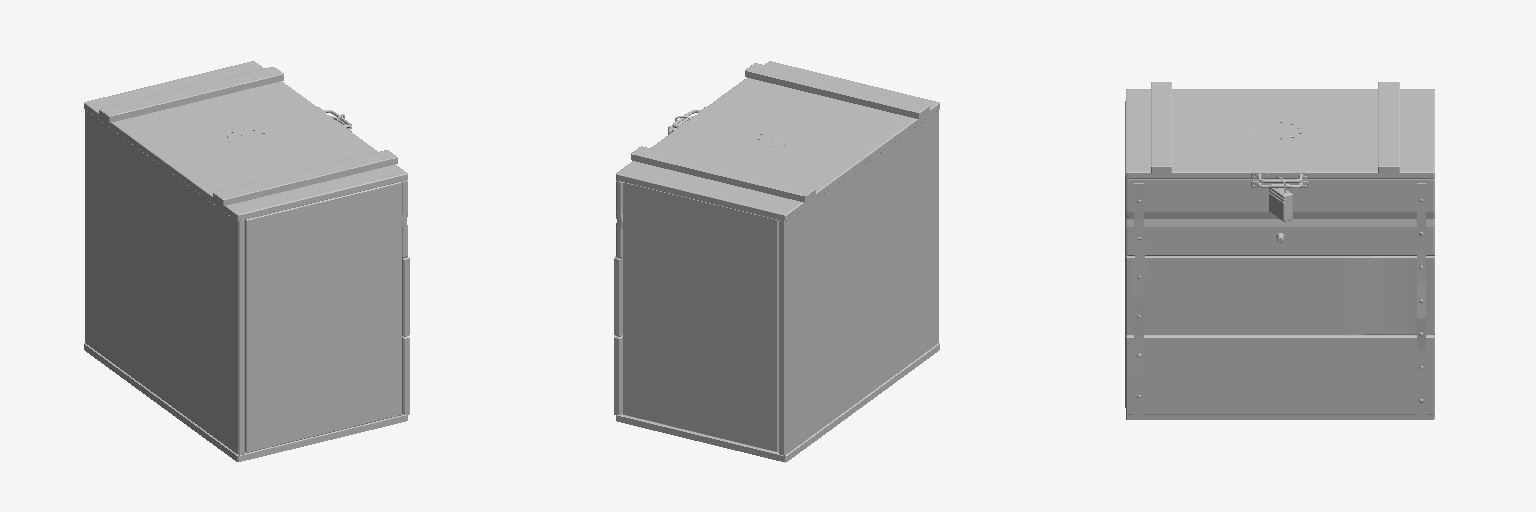
The model's file is box_resize.obj.
3 renders of one model, left to right at view 1: azimuth 30°, elevation 25°; view 2: azimuth 150°, elevation 25°; view 3: azimuth 270°, elevation 25°, orthographic.
Parts seen in each view (by area): view 1: padik_box; view 2: padik_box; view 3: padik_box.
Part boxes in pixels (left/top/right/bottom): padik_box: left=84, top=61, right=409, bottom=461; padik_box: left=614, top=61, right=939, bottom=462; padik_box: left=1125, top=82, right=1434, bottom=419.
Size of the model in its own units: 1.26 by 1.58 by 1.74.